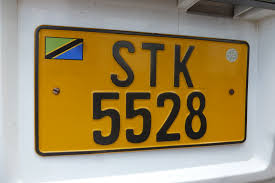T: (139, 40, 167, 89)
